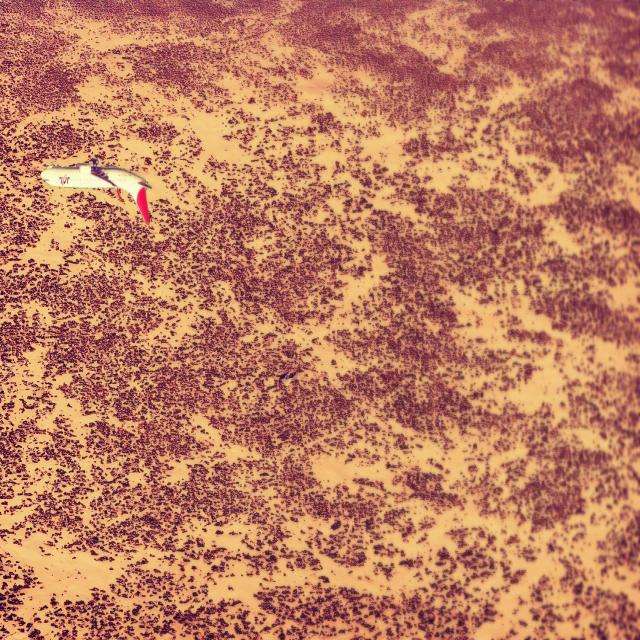airplane: (40, 157, 152, 225)
